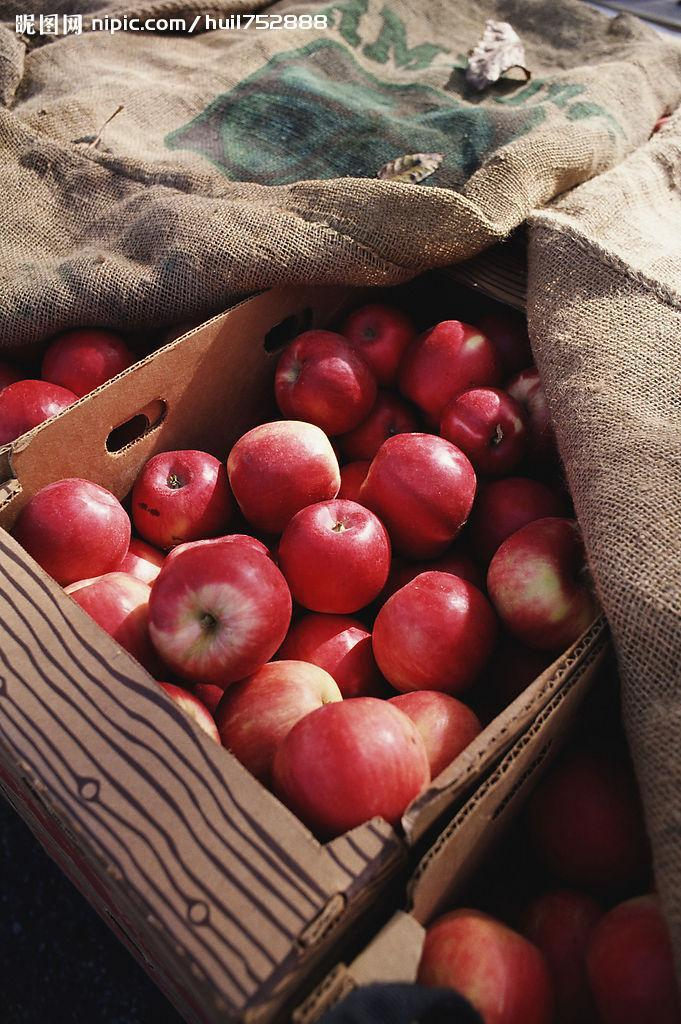apple: (274, 692, 434, 835), (150, 542, 289, 686), (356, 432, 475, 560), (483, 522, 596, 651), (217, 658, 345, 768), (279, 495, 393, 616), (372, 572, 486, 684), (14, 478, 131, 585), (231, 416, 338, 531), (394, 318, 501, 419), (128, 450, 231, 548), (273, 329, 371, 431), (438, 385, 529, 479)
